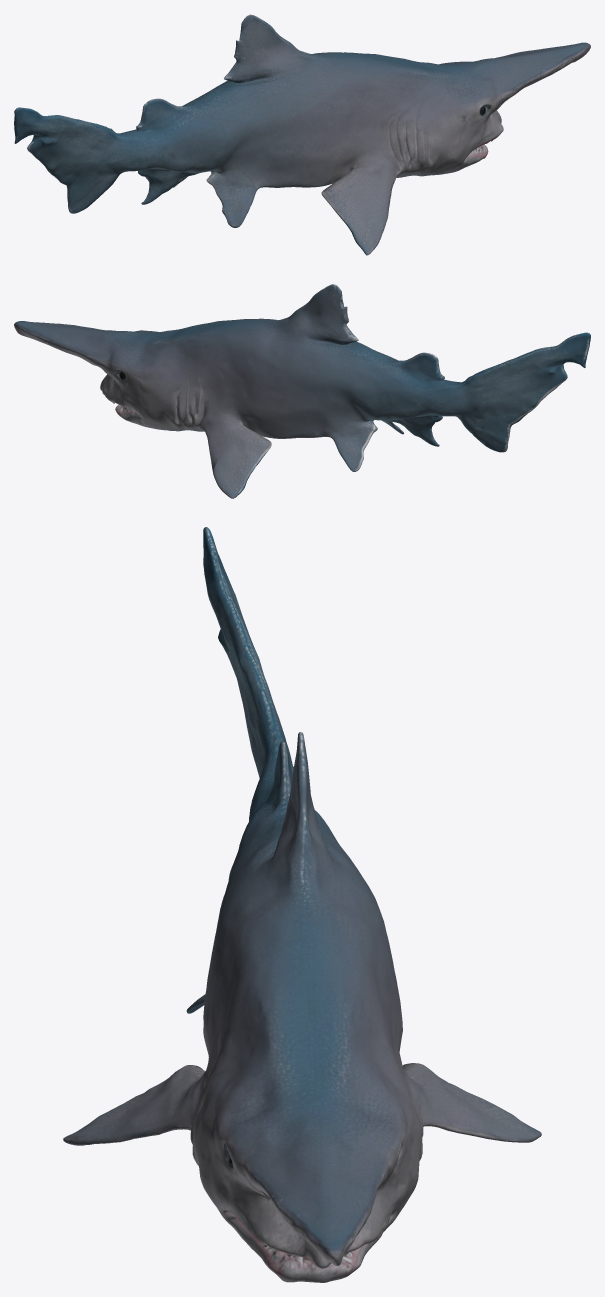
Rendered from goblin.glb.
3 views of the same model, one above another, from view 1: azimuth 30°, elevation 25°; view 2: azimuth 150°, elevation 25°; view 3: azimuth 270°, elevation 25° (orthographic). The views are drawn at different scales.
Visible parts, largest first — view 1: Object_4; view 2: Object_4; view 3: Object_4.
Boxes of the visible parts, left/top/right/bottom form: Object_4: left=14, top=14, right=590, bottom=255; Object_4: left=14, top=284, right=590, bottom=498; Object_4: left=63, top=527, right=541, bottom=1282.
Size of the model in its own units: 0.9999 by 0.3192 by 0.3808.
Materials: 1 (1 with a texture image).
